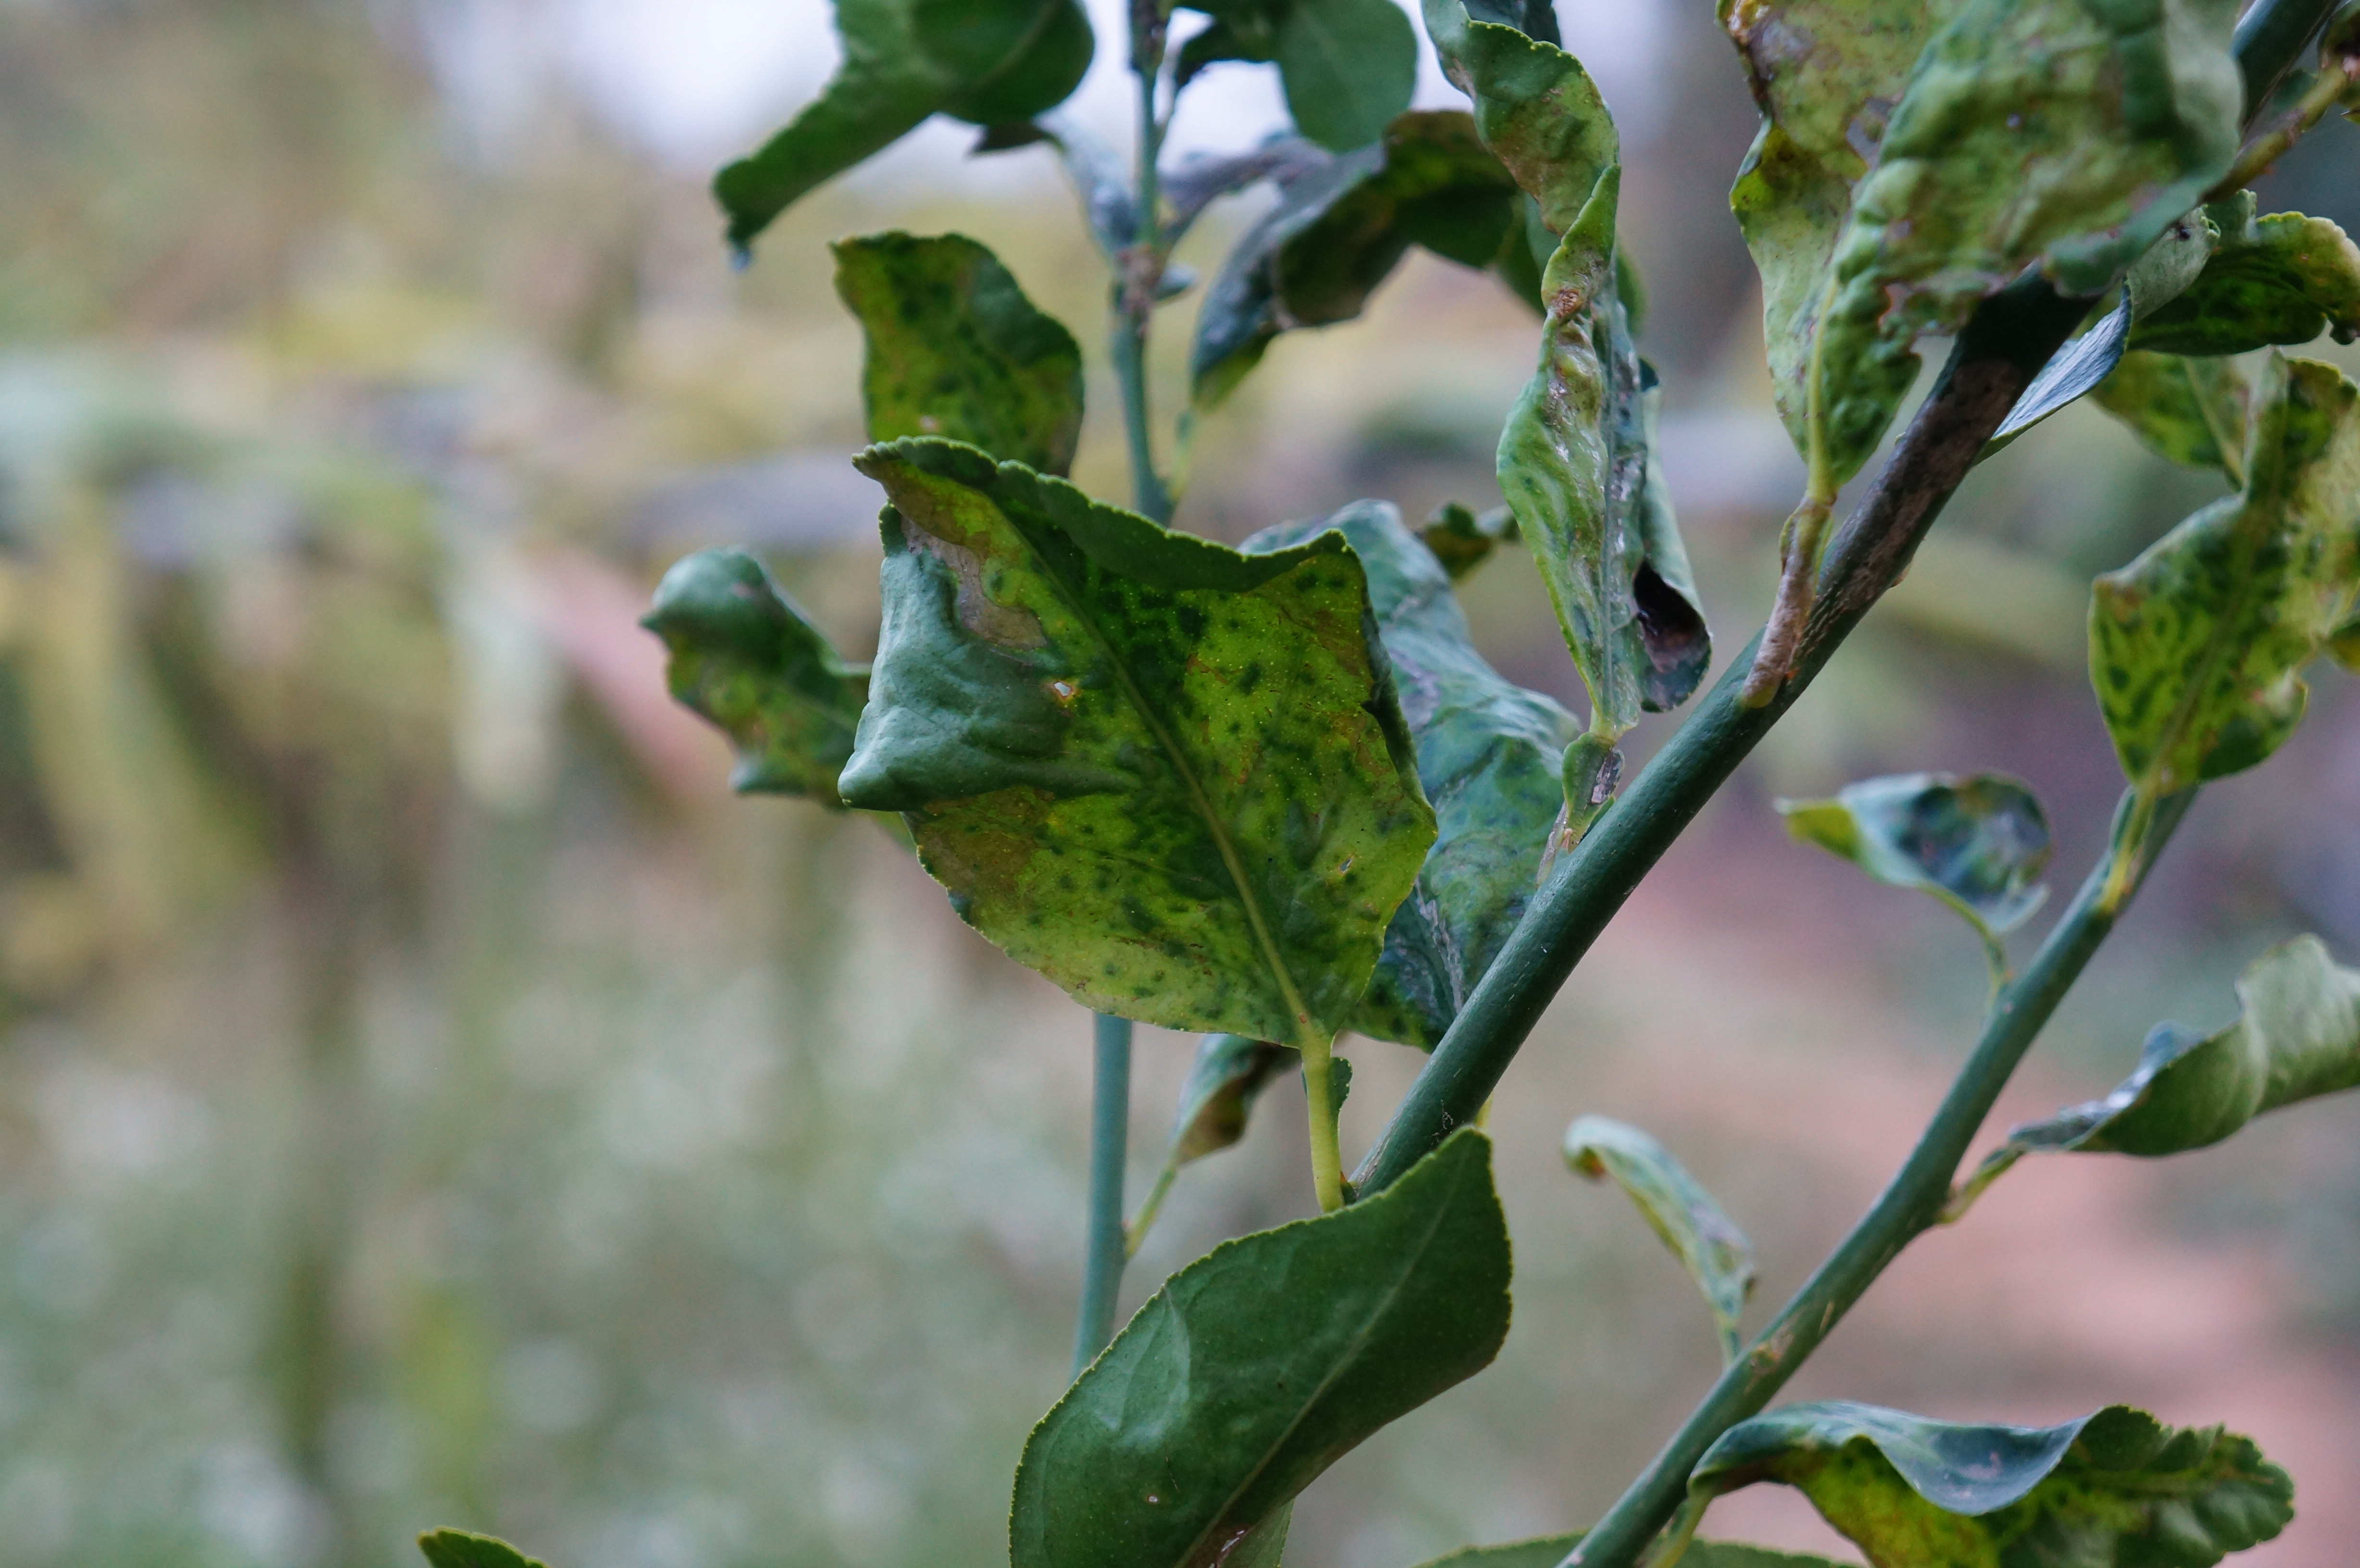curly: (1646, 1381, 2301, 1568)
damage: (831, 436, 1452, 1067), (1410, 7, 1728, 815), (1713, 0, 2029, 535), (2071, 346, 2360, 931)
